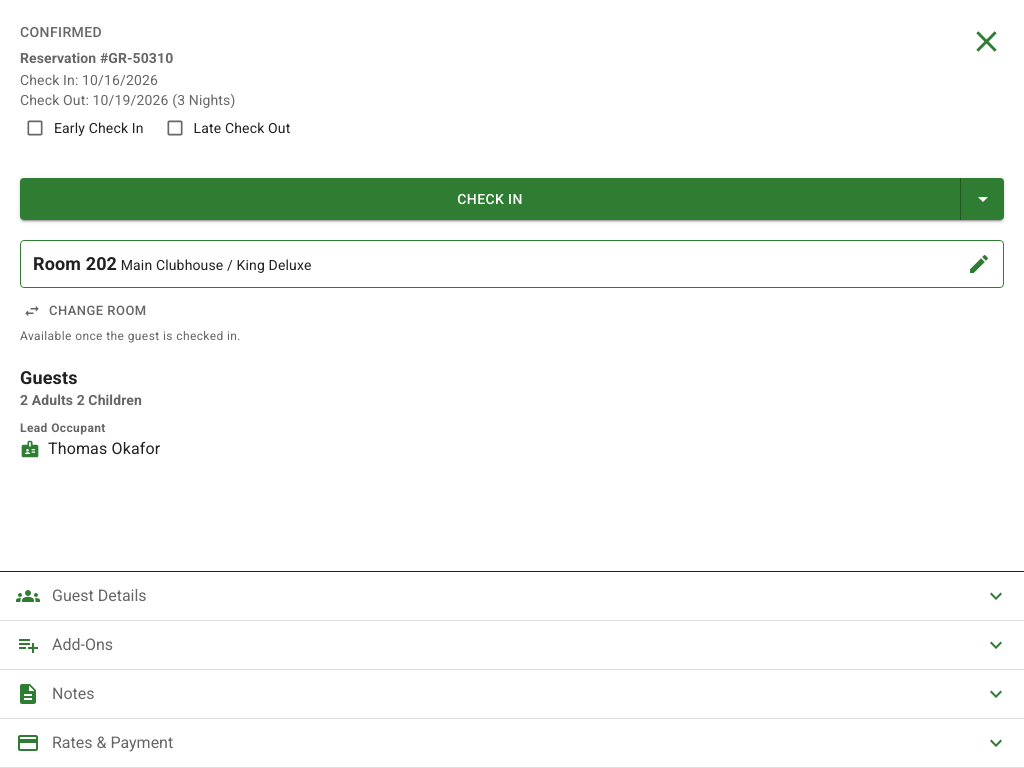
Test: Add Another Room › opens the panel with the reservation number and the stay dates fixed (no date fields)
Click the button named "More reservation actions" at (983, 199), box [961,178,1004,220]
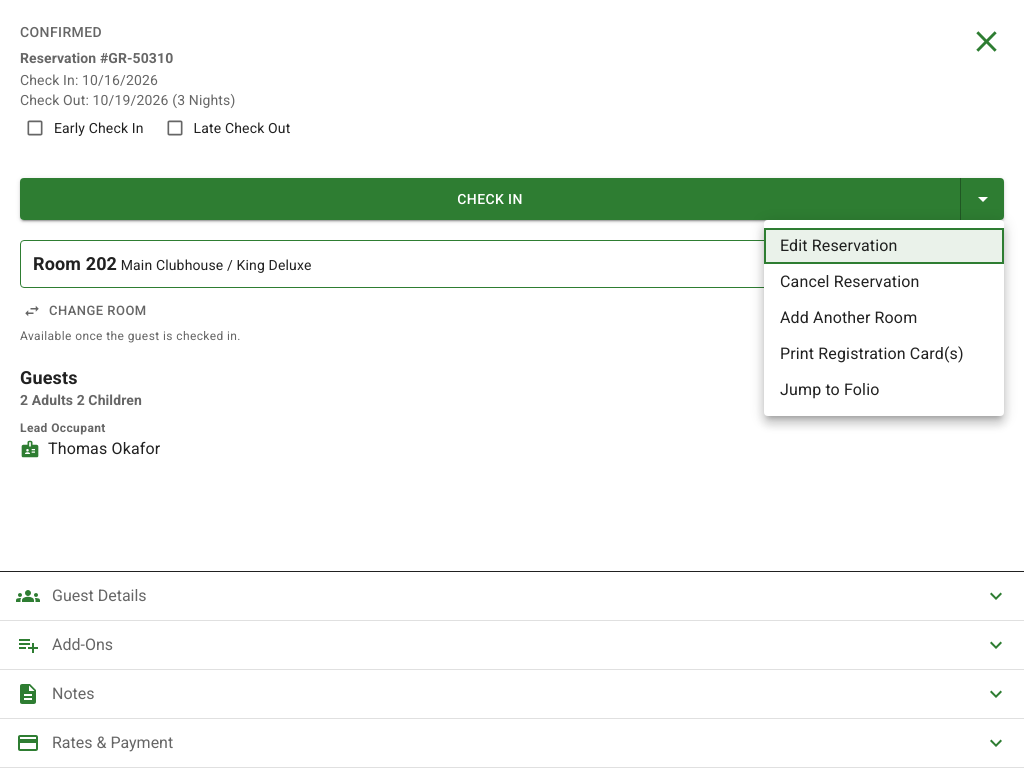
Click the menu item "Add Another Room" at (849, 318), box [780,308,917,327]
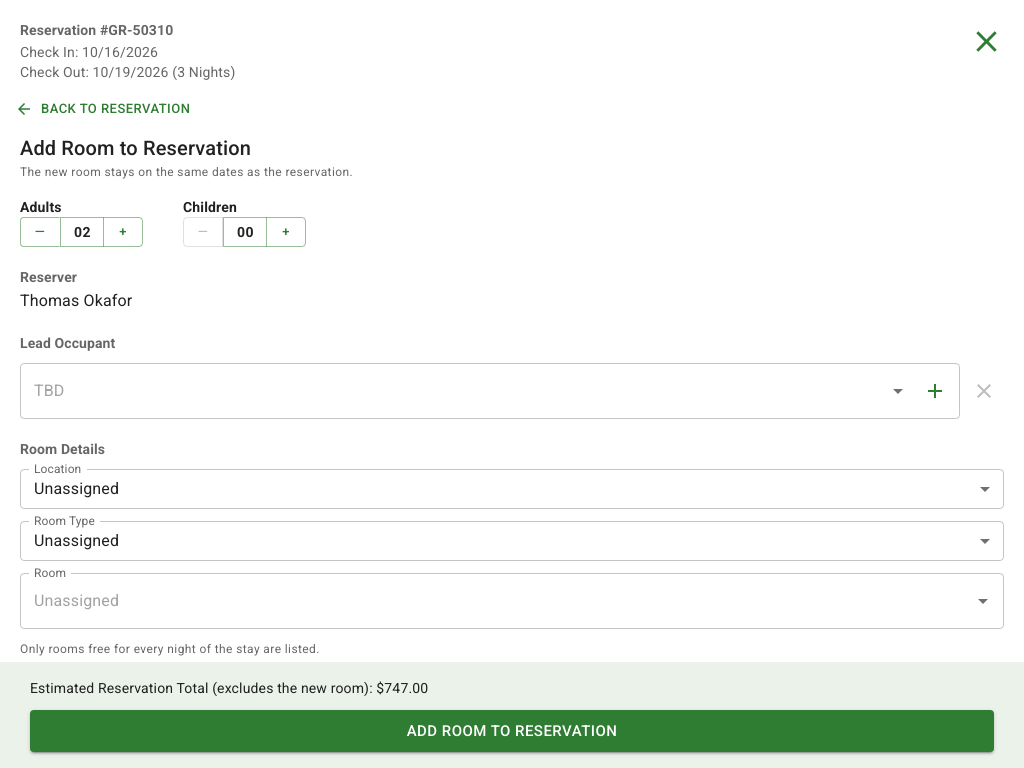
Expected: the element named "Adults" is shown, [20,217,143,247]
Expected: the element named "Children" is shown, [183,217,306,247]
Expected: the button "Add Room to Reservation" is shown, [30,710,994,752]
